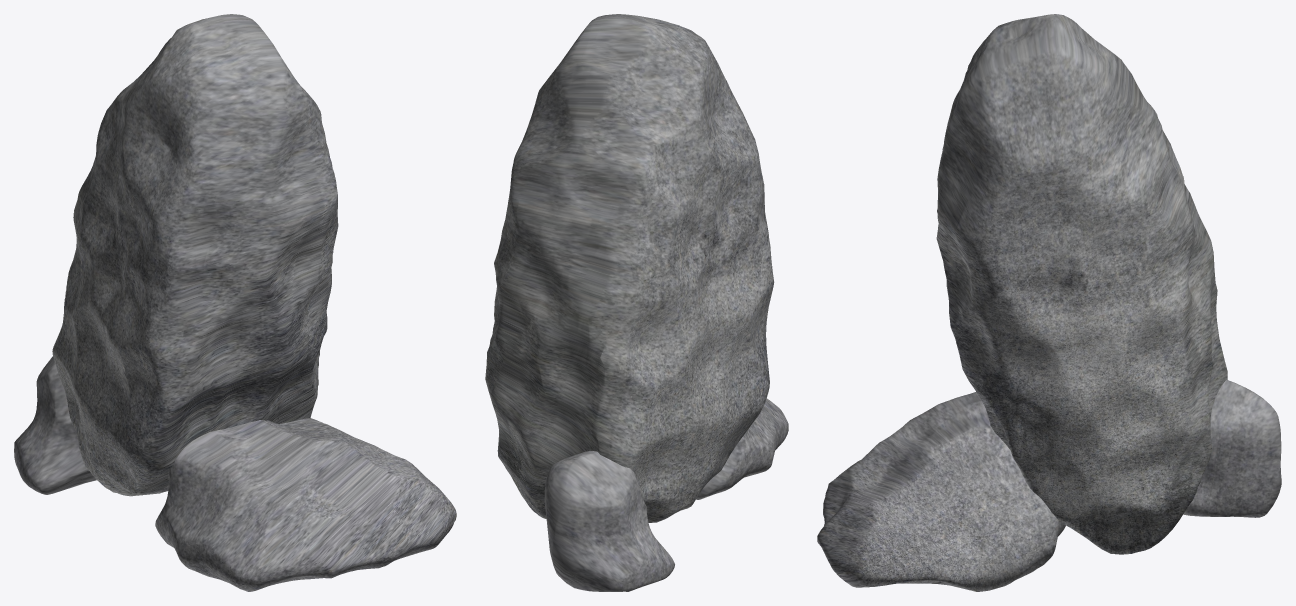
The model's file is Pedra.3.obj.
3 views of the same model, side by side, from view 1: azimuth 30°, elevation 25°; view 2: azimuth 150°, elevation 25°; view 3: azimuth 270°, elevation 25° (orthographic). The views are drawn at different scales.
Parts seen in each view (by area): view 1: Cube.005; view 2: Cube.005; view 3: Cube.005.
Part boxes in pixels (x1,y1,x2,y2): Cube.005: (14,14,456,591); Cube.005: (485,14,788,591); Cube.005: (817,14,1281,591).
Size of the model in its own units: 5.28 by 9.55 by 7.66.
